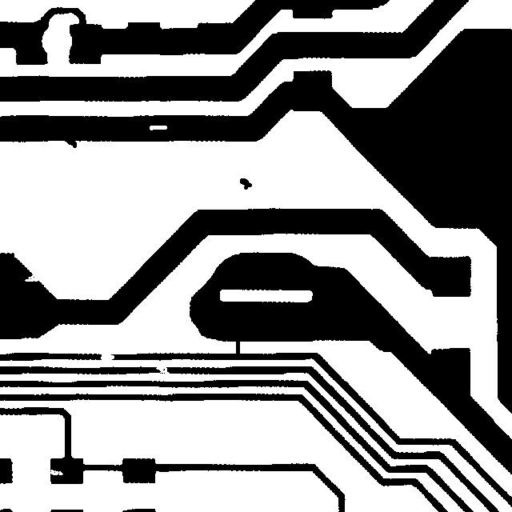copper: (232, 170, 259, 197)
mousebite: (17, 267, 46, 289), (41, 462, 70, 482)
open: (148, 357, 178, 383), (93, 344, 122, 367)
pin-hole: (142, 118, 174, 138)
short: (228, 331, 247, 362)
spur: (56, 127, 84, 155)
